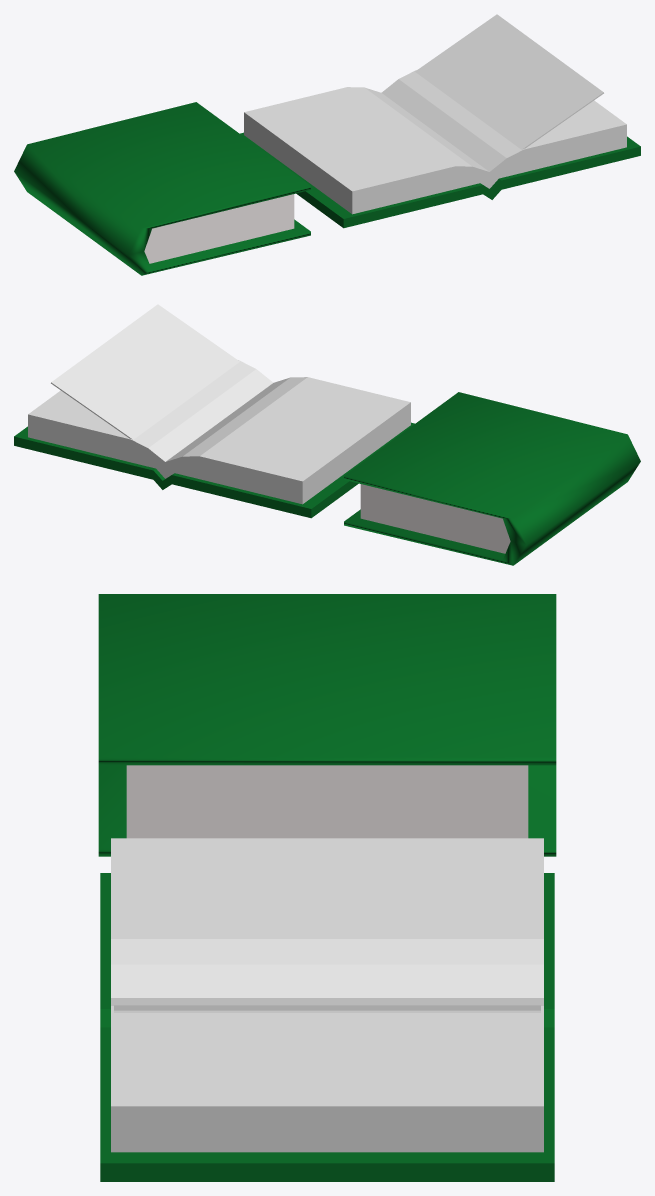
The model's file is Recipe Book Opened.fbx.
3 renders of one model, top to bottom at view 1: azimuth 30°, elevation 25°; view 2: azimuth 150°, elevation 25°; view 3: azimuth 270°, elevation 25°, orthographic. The views are drawn at different scales.
Parts seen in each view (by area): view 1: Cube.003, Cube.001, Cube.004, Cube.002, Cube; view 2: Cube.003, Cube.001, Cube.004, Cube.002, Cube; view 3: Cube.003, Cube.001, Cube.002, Cube, Cube.004.
Part boxes in pixels (box(x1,y1,x2,y2)): Cube.003: box(244, 70, 626, 214); Cube.001: box(14, 102, 310, 275); Cube.004: box(415, 14, 603, 149); Cube.002: box(144, 194, 294, 263); Cube: box(240, 132, 640, 228); Cube.003: box(28, 360, 410, 504); Cube.001: box(344, 392, 640, 565); Cube.004: box(51, 304, 239, 439); Cube.002: box(360, 484, 510, 553); Cube: box(14, 422, 414, 518); Cube.003: box(111, 838, 543, 1152); Cube.001: box(98, 594, 556, 856); Cube.002: box(126, 765, 528, 838); Cube: box(100, 873, 554, 1181); Cube.004: box(114, 1005, 540, 1012).
Bounding box in the file's own units: 259 × 37.29 × 100.
